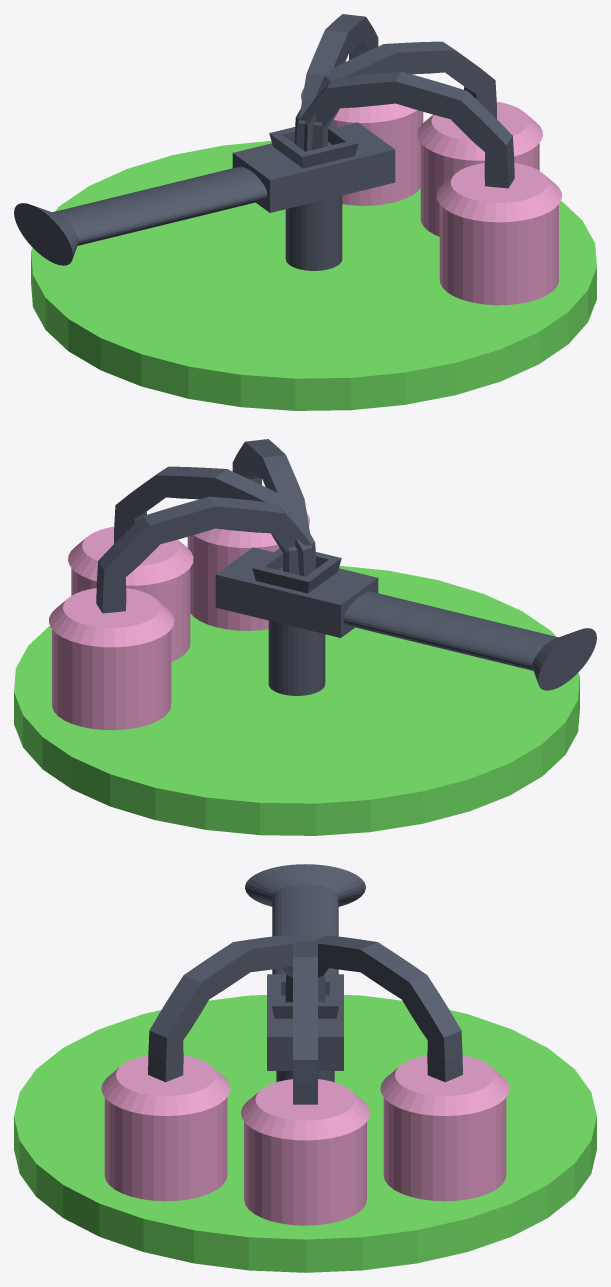
The model's file is turret2.fbx.
3 renders of one model, top to bottom at view 1: azimuth 30°, elevation 25°; view 2: azimuth 150°, elevation 25°; view 3: azimuth 270°, elevation 25°, orthographic. The views are drawn at different scales.
Parts seen in each view (by area): view 1: turret2; view 2: turret2; view 3: turret2.
Boxes of the visible parts, x1,y1,x2,y2 form: turret2: (14,14,596,410); turret2: (14,439,596,835); turret2: (14,864,596,1272).
Bounding box in the file's own units: 21017 × 8732 × 20000.
